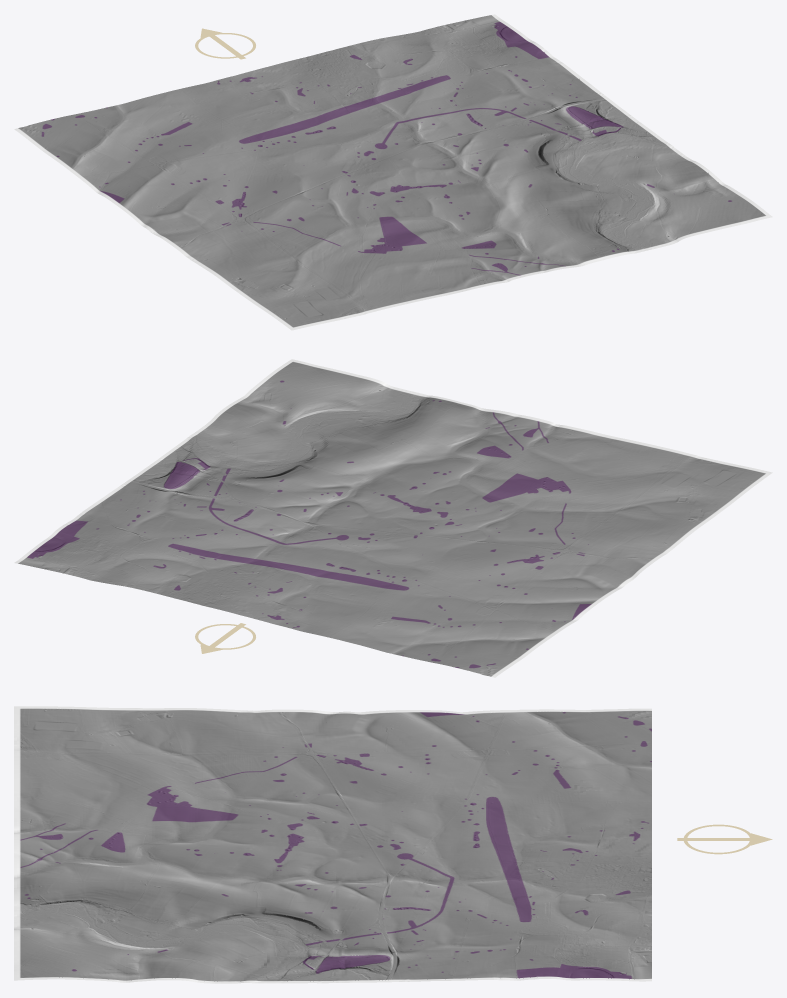
File: Stonehenge_Oddscape_History.glb
The picture shows the model from 3 angles, top to bottom: view 1: azimuth 30°, elevation 25°; view 2: azimuth 150°, elevation 25°; view 3: azimuth 270°, elevation 25°; orthographic projection. The views are drawn at different scales.
Parts seen in each view (by area): view 1: Oddscape_Terrain_v221_GLB; view 2: Oddscape_Terrain_v221_GLB; view 3: Oddscape_Terrain_v221_GLB.
Boxes of the visible parts, bbox=[...] form: Oddscape_Terrain_v221_GLB: bbox=[14, 14, 772, 330]; Oddscape_Terrain_v221_GLB: bbox=[14, 359, 772, 677]; Oddscape_Terrain_v221_GLB: bbox=[14, 706, 772, 983].
Size of the model in its own units: 3.2 by 0.0543 by 3.81.
2 materials, 1 textured.
